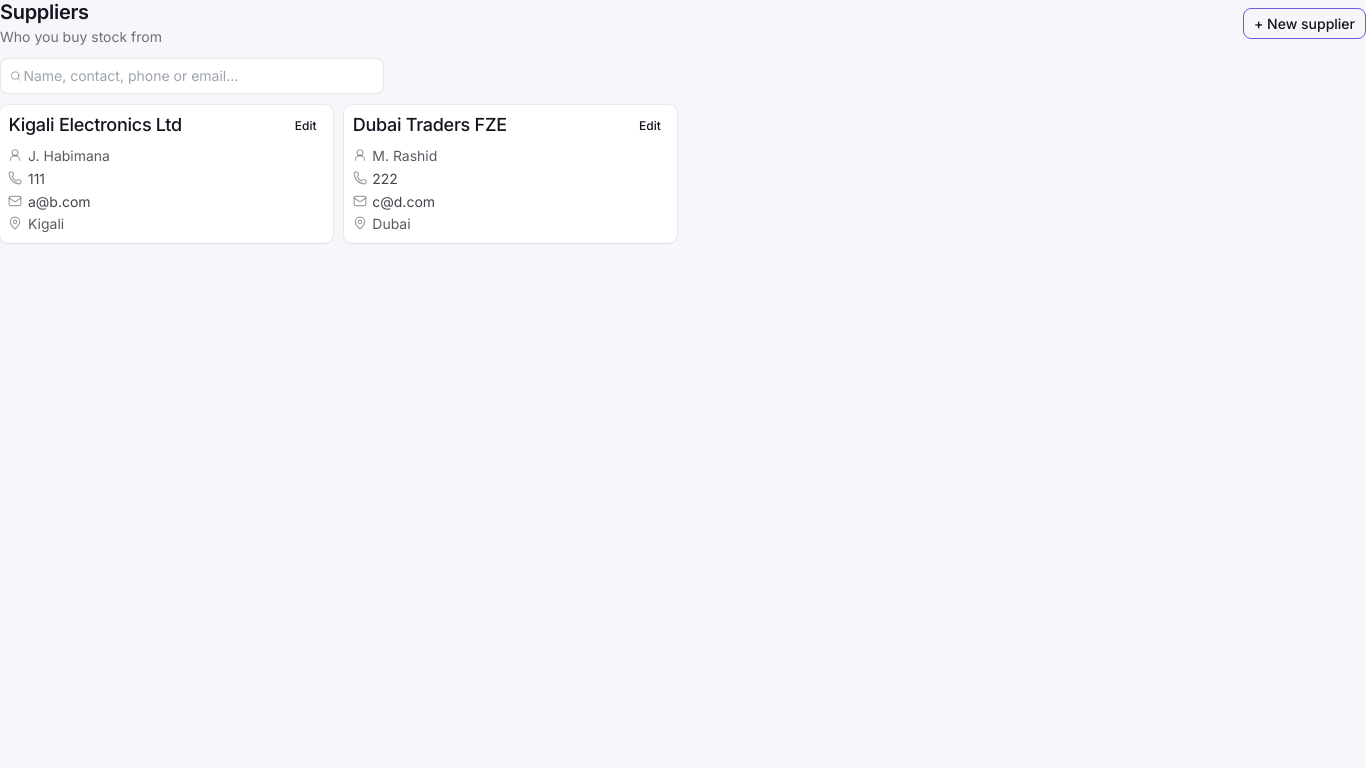
it: SuppliersPageClient › opens the edit dialog pre-filled when Edit is clicked
The width and height of the screenshot is (1366, 768).
Check: the heading "Kigali Electronics Ltd" is shown, box [8, 114, 182, 135]
Click the button with aria-label "Edit Kigali Electronics Ltd". click: (306, 126)
box: [284, 111, 328, 140]
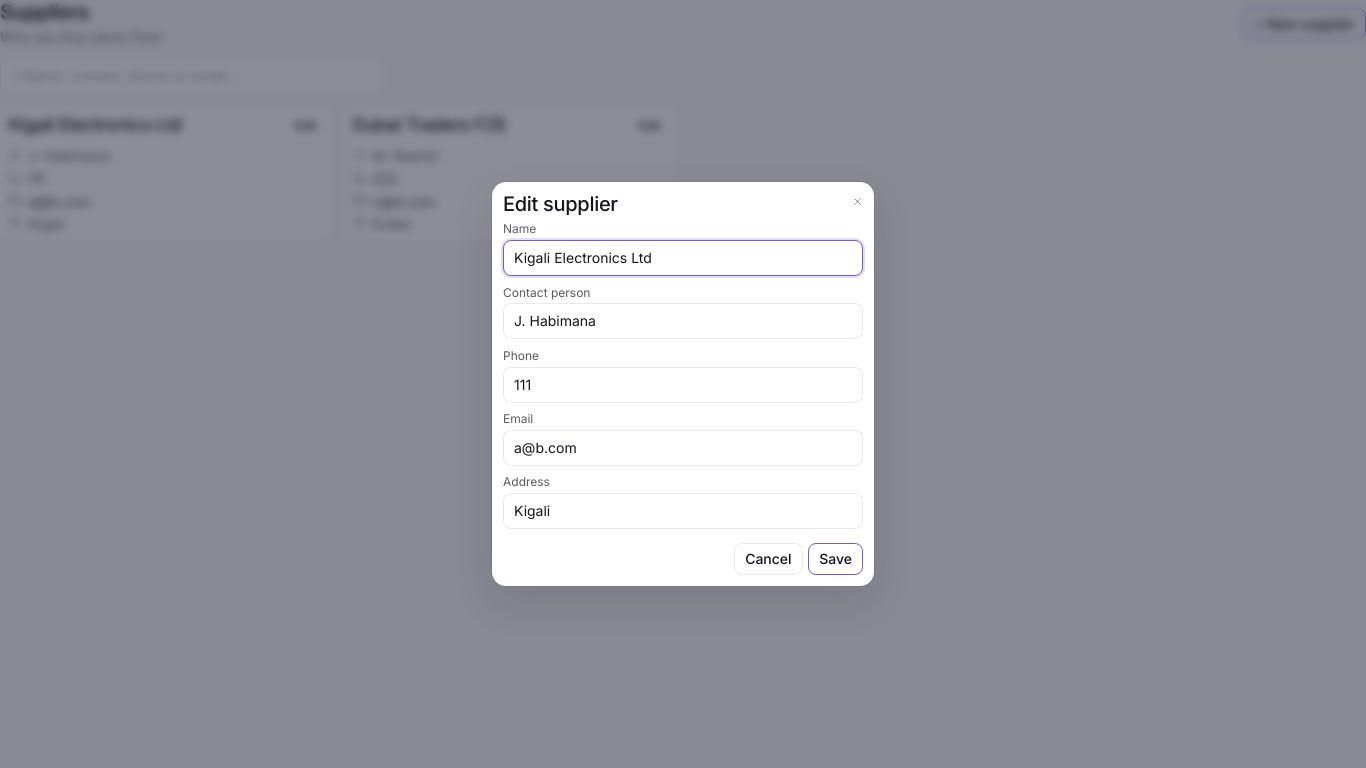
Check: the field labelled "Name" holds "Kigali Electronics Ltd", box [503, 240, 863, 276]
